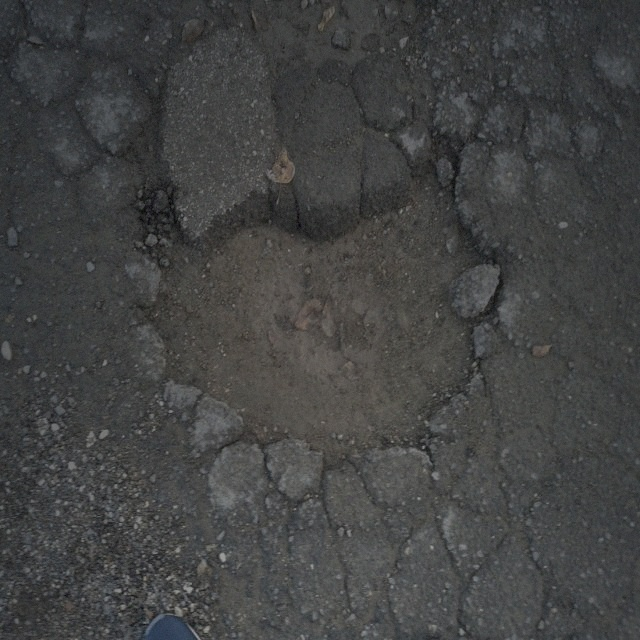pothole: (138, 168, 504, 468)
